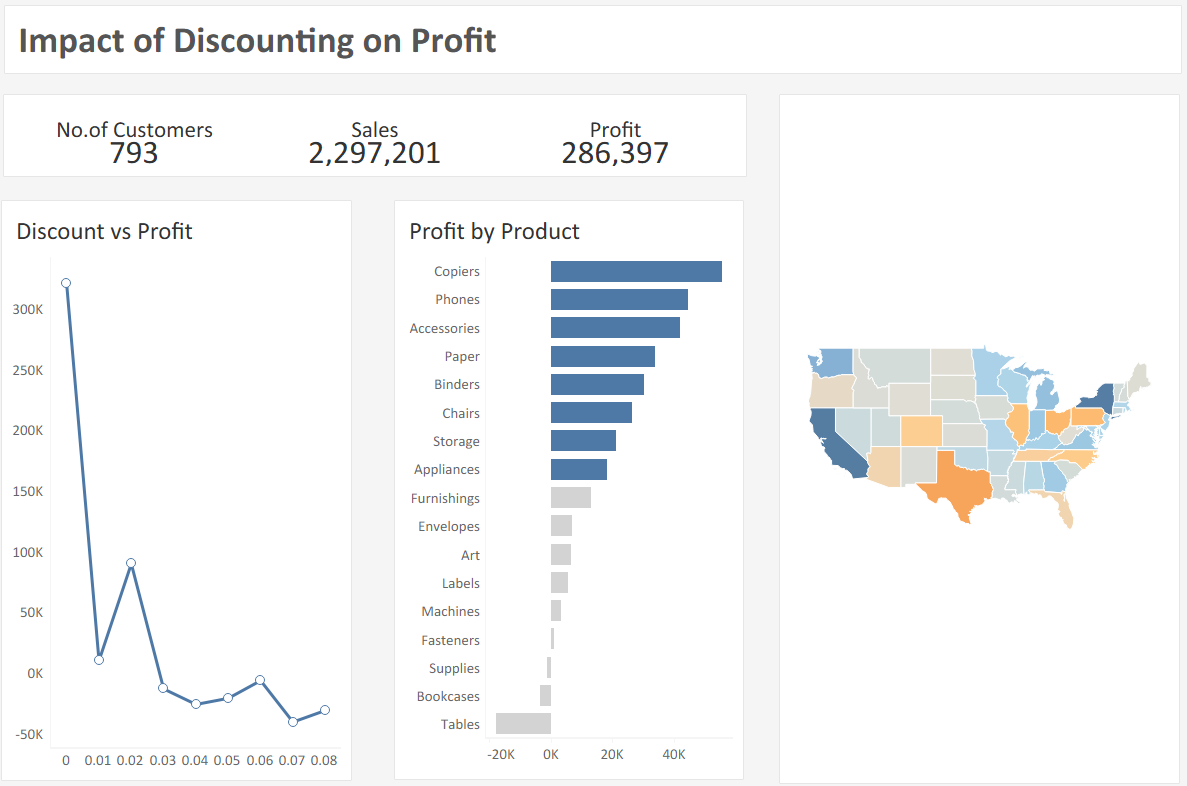

The dashboard page shown, as its layout file describes it:
{"tool":"tableau","page":{"name":"Impact of Discounting on Profit","canvas":[1000,1000],"units":"permille","ordinal":0},"visuals":[{"type":"text","box":[0.8,6.2,998.3,111]},{"type":"worksheet","title":"KPI","mark":"Automatic","box":[0,117.2,636.7,128.4]},{"type":"worksheet","title":"Sales by states","mark":"Automatic","box":[646.7,117.2,350.8,885.3]},{"type":"worksheet","title":"Profit by Product","mark":"Automatic","rows":["Sub-Category"],"cols":["Profit"],"box":[325.8,249.4,308.3,748.1]}]}

Visuals, with their boxes on the dashboard's canvas, which has no fixed pixel size, in thousandths of its width and height (x1, y1, x2, y2). These are canvas units, not pixel positions in the 1187x786 screenshot, which may show the page scaled, cropped or inside an application window:
text: Rect(1, 6, 999, 117)
"KPI" worksheet: Rect(0, 117, 637, 246)
"Sales by states" worksheet: Rect(647, 117, 998, 1002)
"Profit by Product" worksheet: Rect(326, 249, 634, 998)
